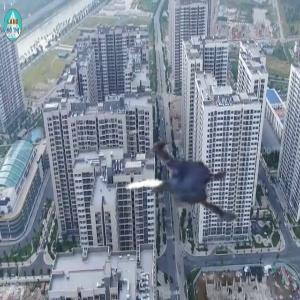drone: (106, 109, 256, 259)
